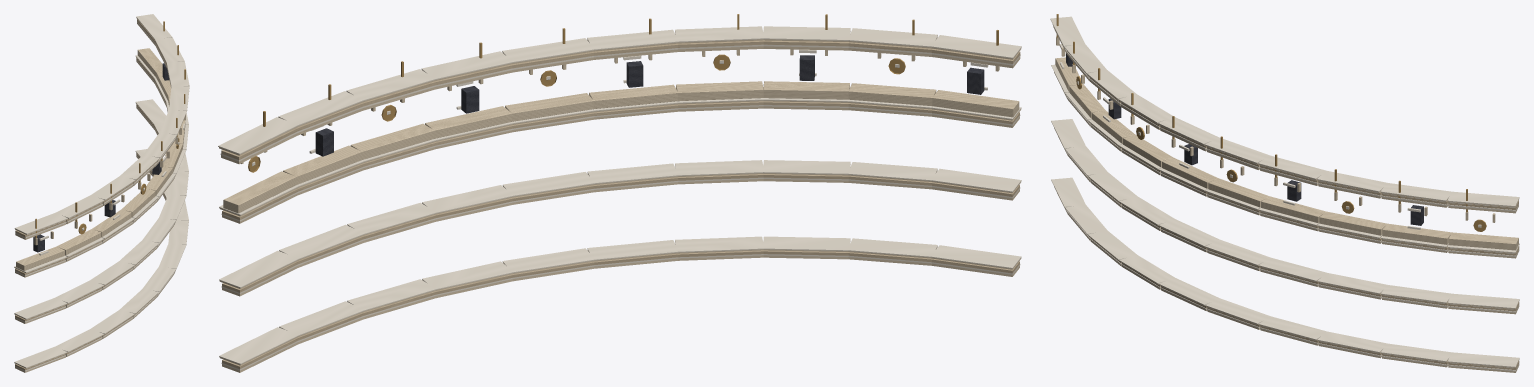
File: COL_AtticCornice_Q1.obj
3 renders of one model, left to right at view 1: azimuth 30°, elevation 25°; view 2: azimuth 150°, elevation 25°; view 3: azimuth 270°, elevation 25°, orthographic. The views are drawn at different scales.
Parts seen in each view (by area): view 1: COL_AtticCornice_Q1; view 2: COL_AtticCornice_Q1; view 3: COL_AtticCornice_Q1.
Boxes of the visible parts, box(x1,y1,x2,y2) form: COL_AtticCornice_Q1: box(14, 14, 189, 372); COL_AtticCornice_Q1: box(218, 14, 1021, 372); COL_AtticCornice_Q1: box(1050, 14, 1519, 372).
Bounding box in the file's own units: 111 × 49 × 116.
5 materials, 5 textured.
